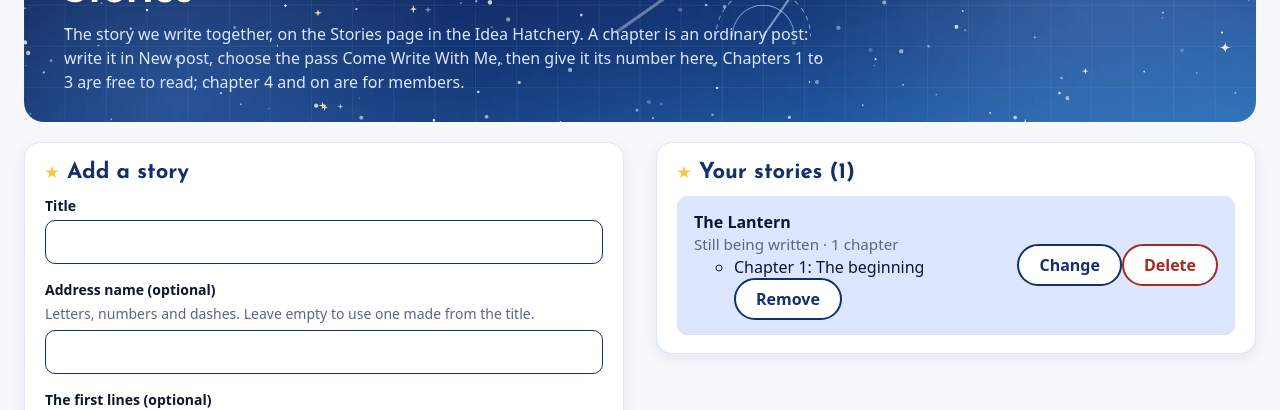
Test: adding and changing a story › asks for the finishing date of a finished story
Expected: the heading "Your stories (1)" is shown, [699,161,855,184]
In the field labelled "Title": (324, 242) [45,220,603,264], type "Done"
(page scrolled)
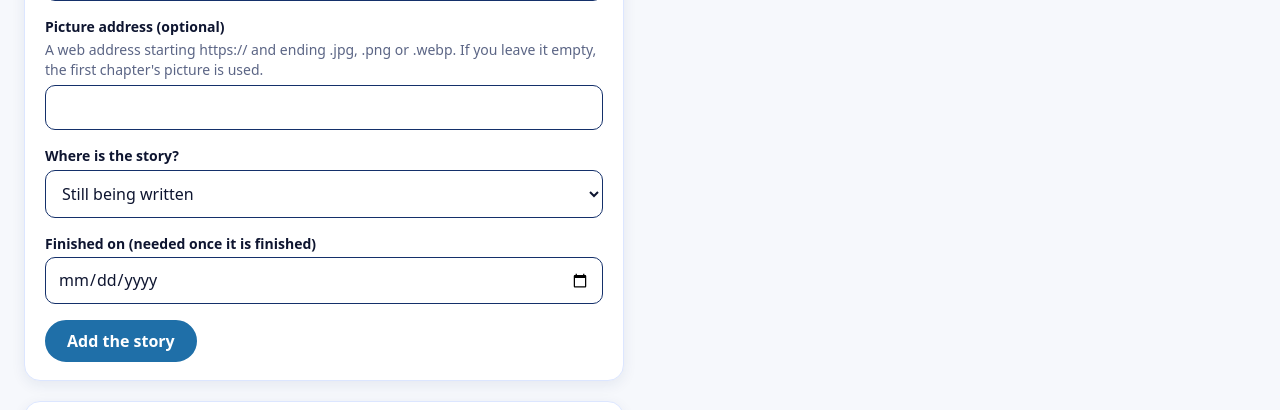
Select "Finished" in the dropdown labelled "Where is the story?": (324, 194) [45,170,603,218]
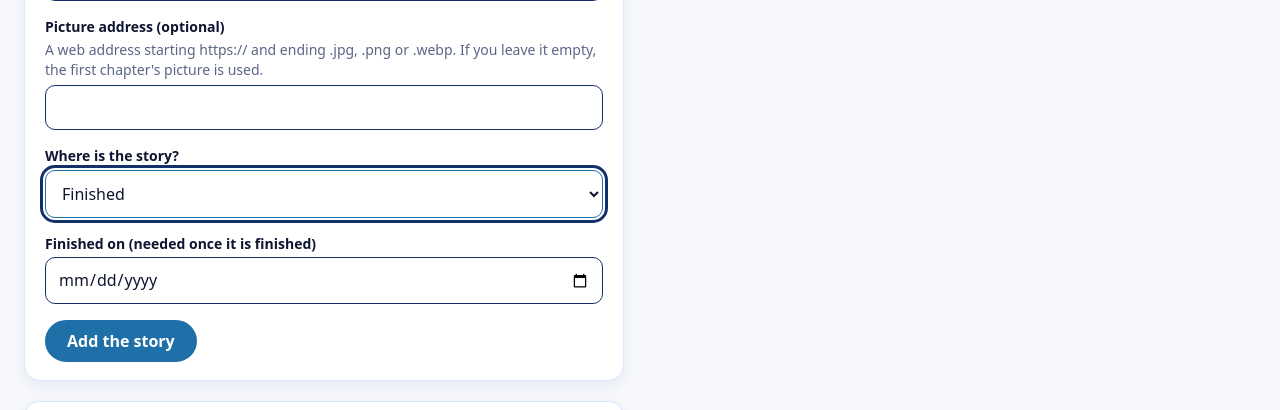
Click the button "Add the story": (121, 341) [45,320,197,362]
(page scrolled)
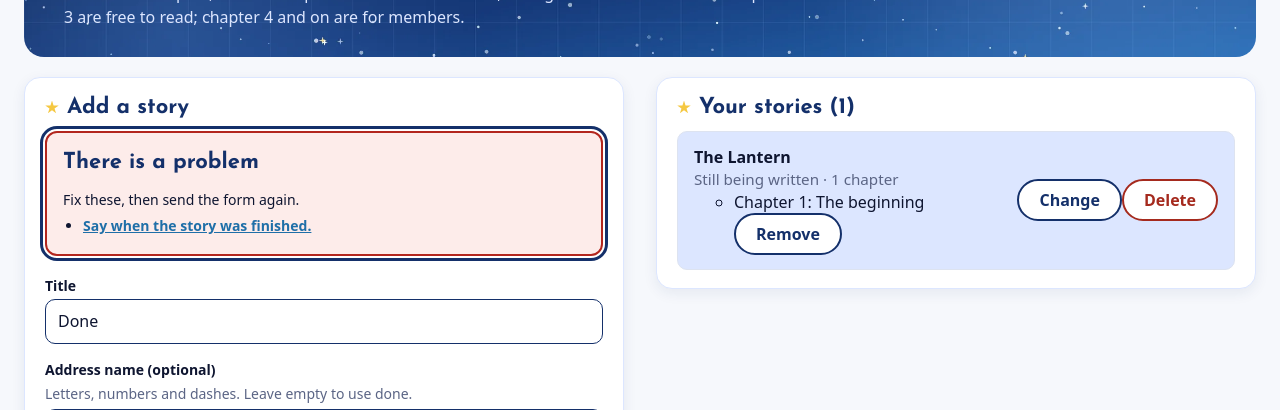
Expected: the link "Say when the story was finished." is shown, [83,216,311,235]
